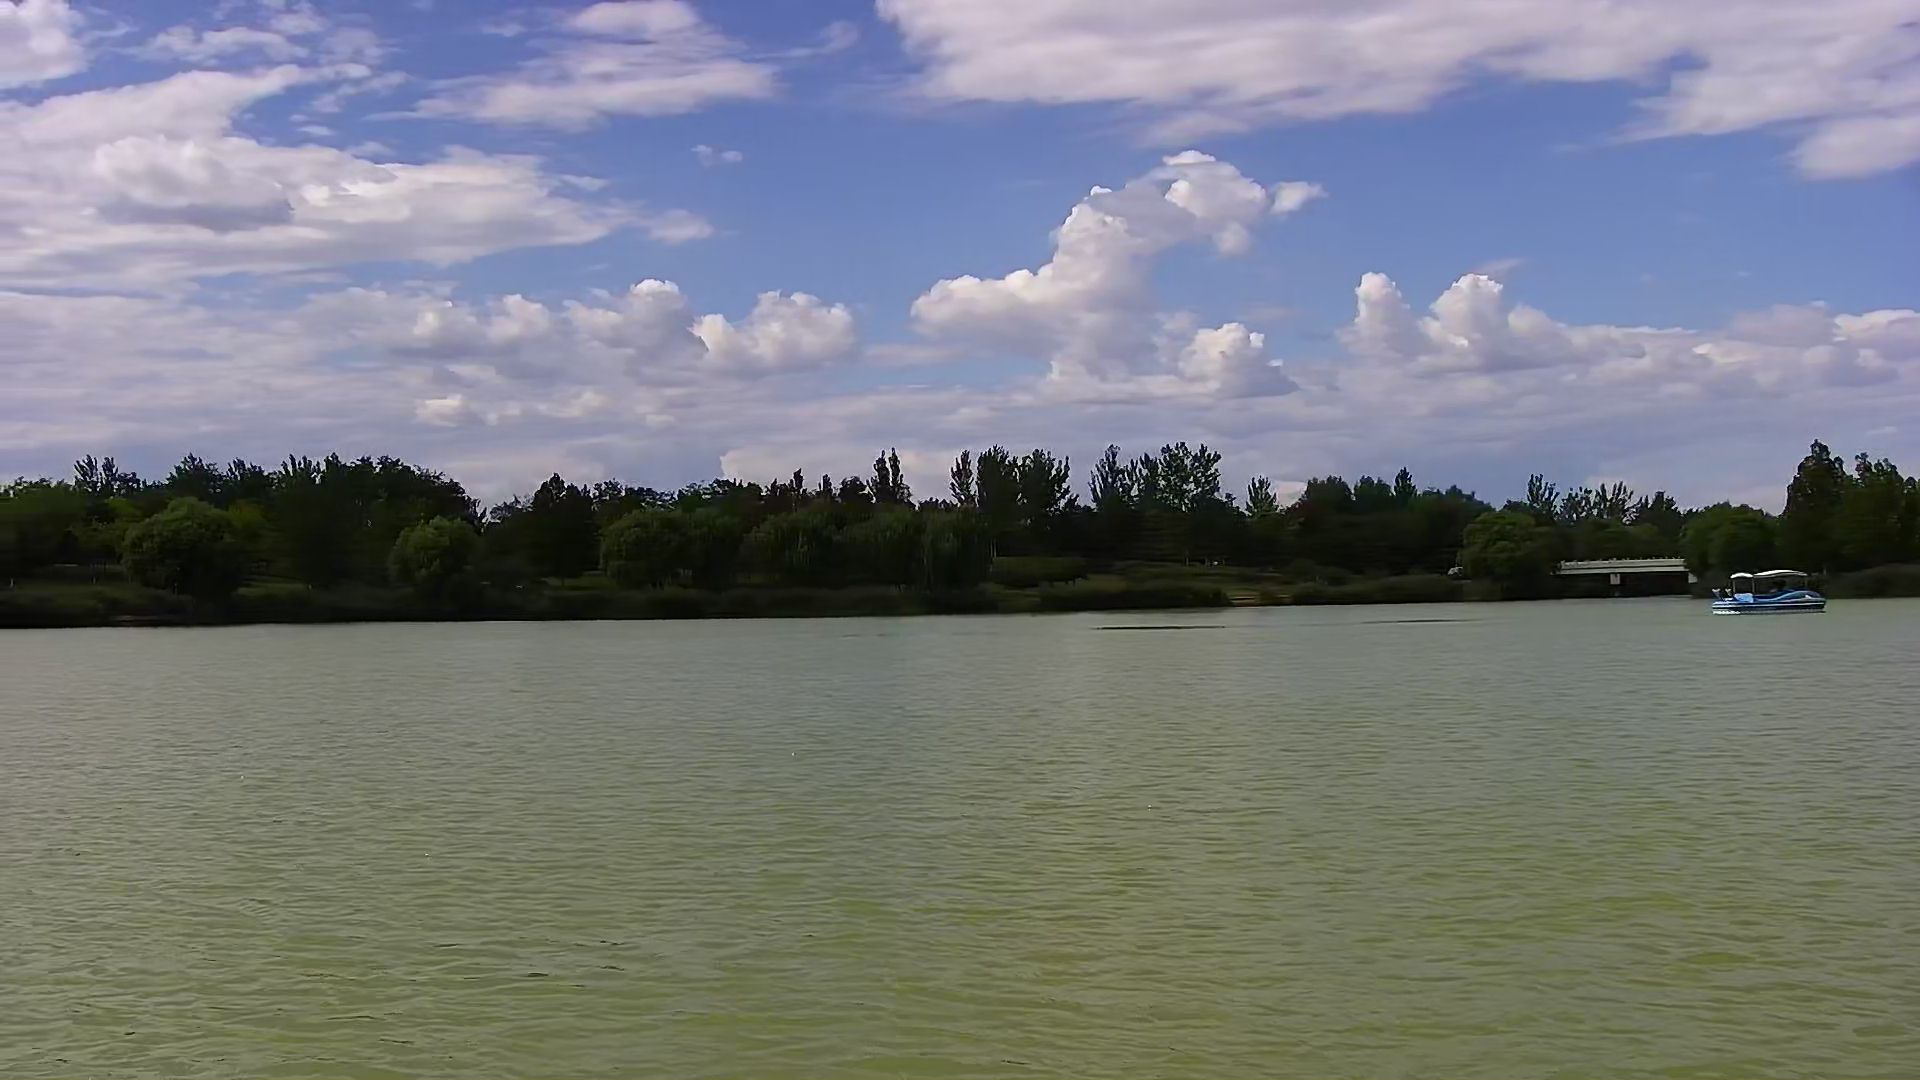boat: (1712, 564, 1818, 613)
bridge: (1563, 556, 1685, 597)
